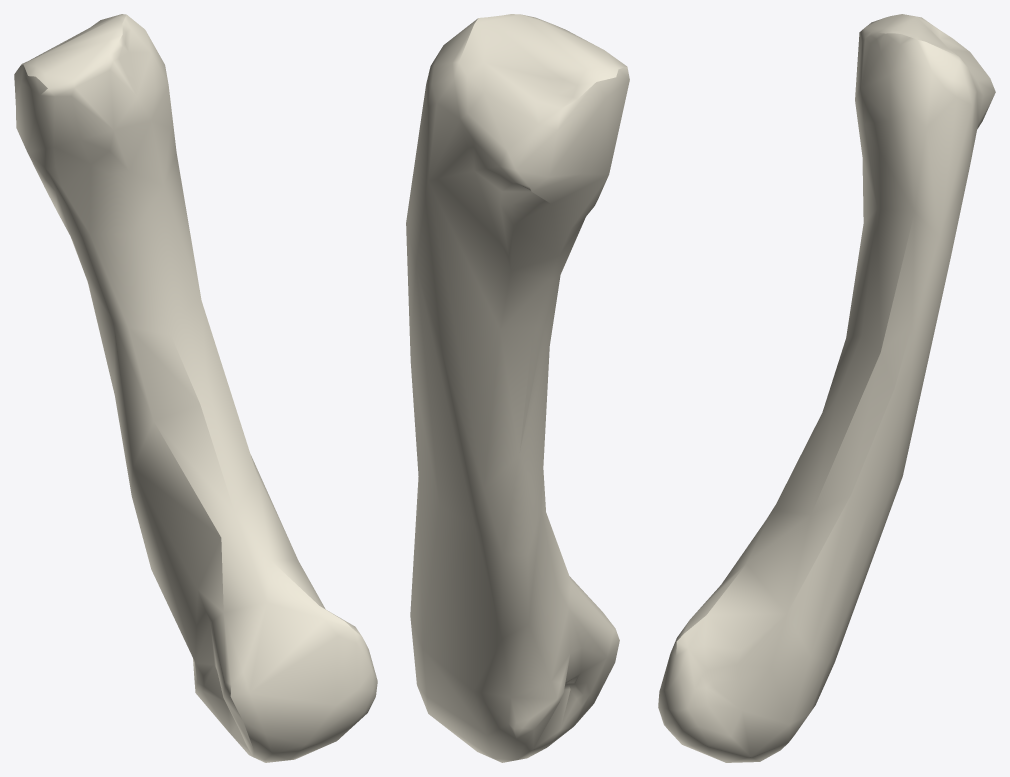
File: fma24472_fj3358.glb
The picture shows the model from 3 angles, left to right: view 1: azimuth 30°, elevation 25°; view 2: azimuth 150°, elevation 25°; view 3: azimuth 270°, elevation 25°; orthographic projection. The views are drawn at different scales.
Visible parts, largest first — view 1: FMA24472_FJ3358; view 2: FMA24472_FJ3358; view 3: FMA24472_FJ3358.
Part boxes in pixels (x1,y1,x2,y2): FMA24472_FJ3358: (14, 14, 377, 762); FMA24472_FJ3358: (406, 14, 629, 762); FMA24472_FJ3358: (658, 14, 995, 762).
Bounding box in the file's own units: 0.0201 × 0.0549 × 0.0244.
